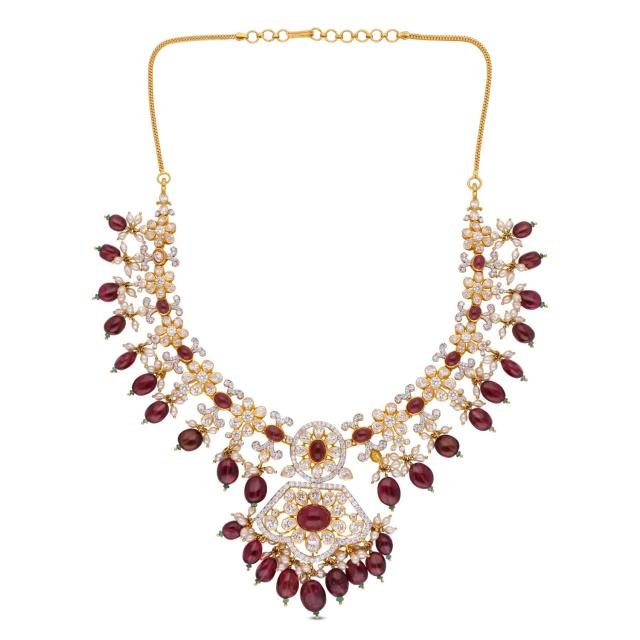missing gem: (153, 250, 165, 263)
